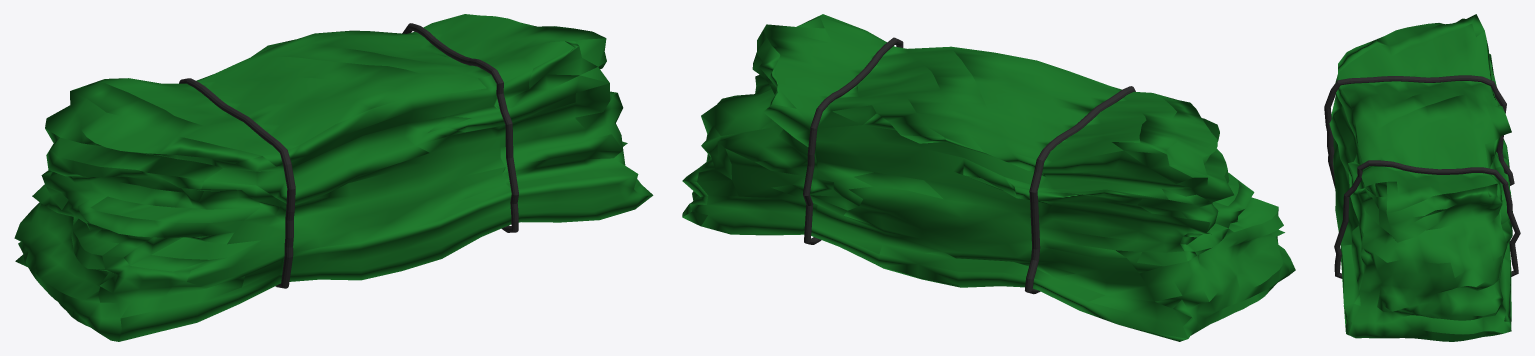
File: SM_Tarpaulin_Green_D.fbx
3 renders of one model, left to right at view 1: azimuth 30°, elevation 25°; view 2: azimuth 150°, elevation 25°; view 3: azimuth 270°, elevation 25°, orthographic. The views are drawn at different scales.
Parts seen in each view (by area): view 1: SM_Tarpaulin_Green_D; view 2: SM_Tarpaulin_Green_D; view 3: SM_Tarpaulin_Green_D.
Boxes of the visible parts, x1,y1,x2,y2 form: SM_Tarpaulin_Green_D: (14,14,653,341); SM_Tarpaulin_Green_D: (682,14,1295,341); SM_Tarpaulin_Green_D: (1324,14,1520,341).
Size of the model in its own units: 169 by 51.96 by 64.74.
